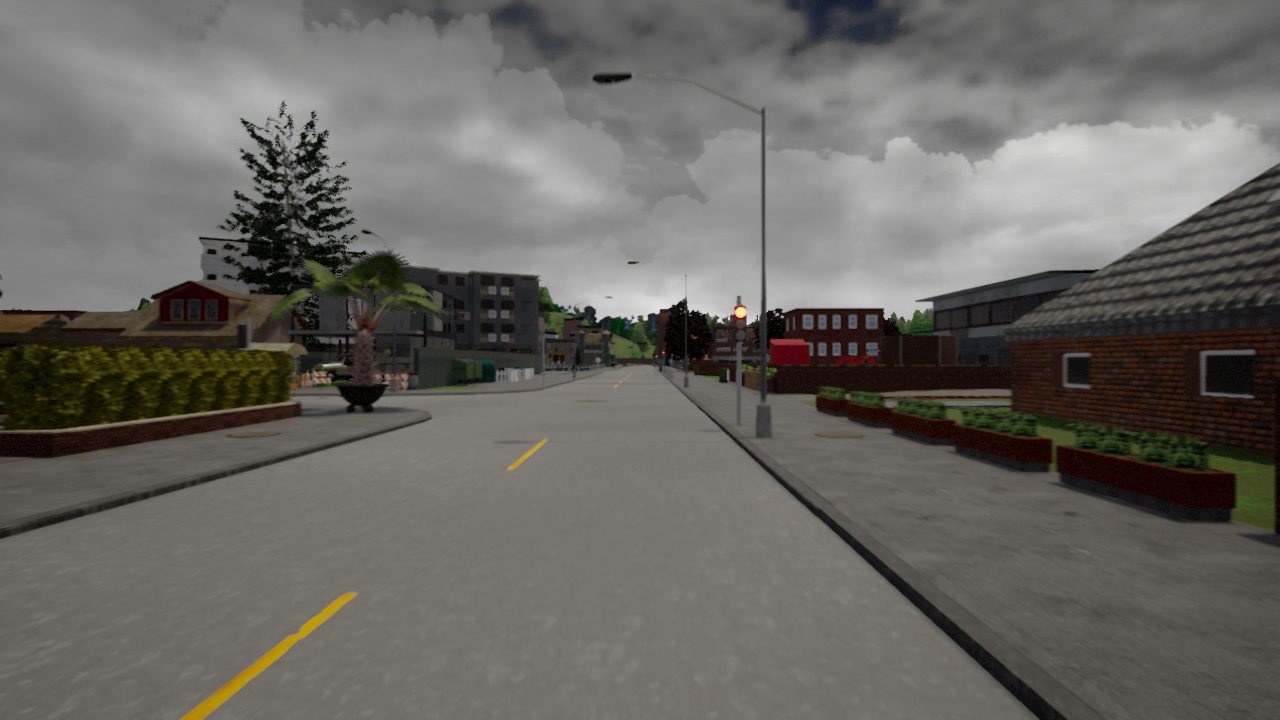red: (733, 305, 749, 341)
